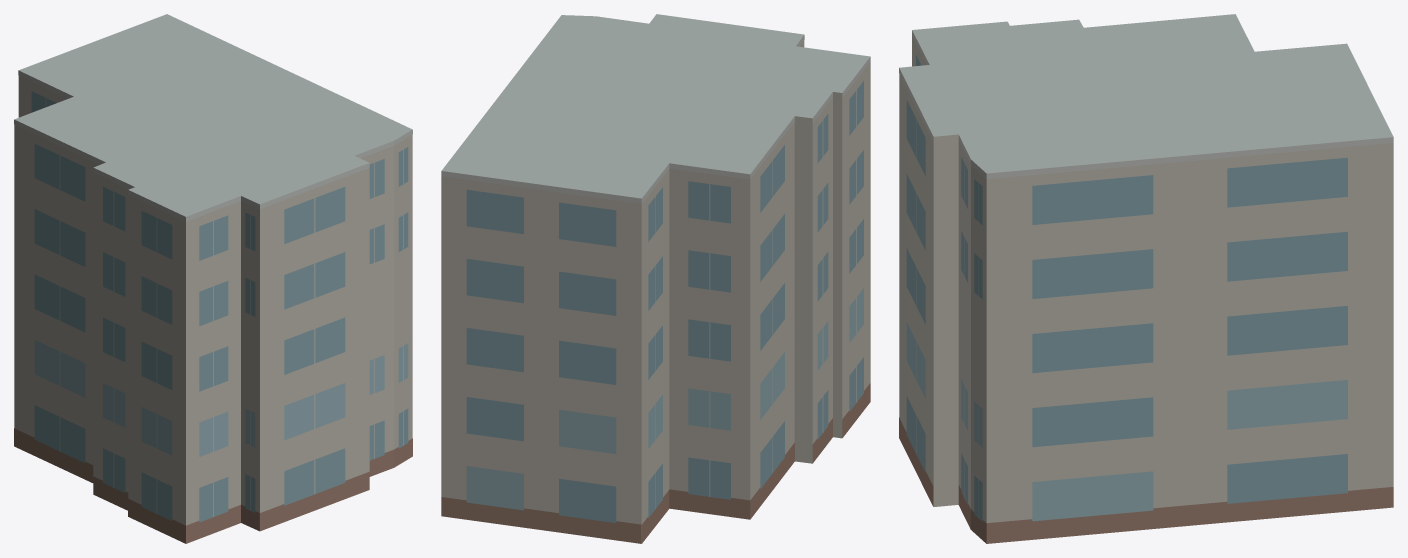
File: survey-upis-32955183.glb
The picture shows the model from 3 angles, left to right: view 1: azimuth 30°, elevation 25°; view 2: azimuth 150°, elevation 25°; view 3: azimuth 270°, elevation 25°; orthographic projection. The views are drawn at different scales.
Parts seen in each view (by area): view 1: survey-upis-32955183.tmp; view 2: survey-upis-32955183.tmp; view 3: survey-upis-32955183.tmp.
Boxes of the visible parts, bbox=[...] form: survey-upis-32955183.tmp: bbox=[14, 14, 412, 543]; survey-upis-32955183.tmp: bbox=[441, 14, 870, 543]; survey-upis-32955183.tmp: bbox=[899, 14, 1393, 543].
Bounding box in the file's own units: 14.88 × 16.1 × 19.49.
